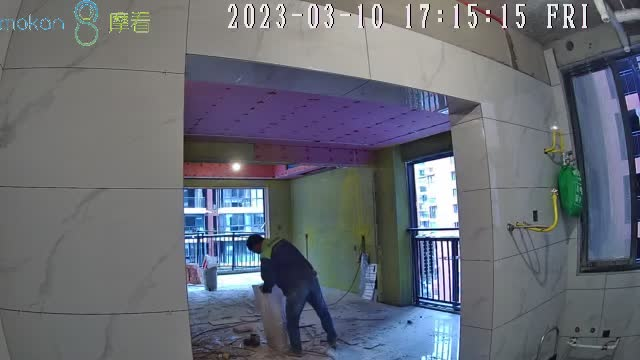people: (246, 233, 338, 355)
window: (406, 162, 461, 301), (187, 190, 265, 265)
